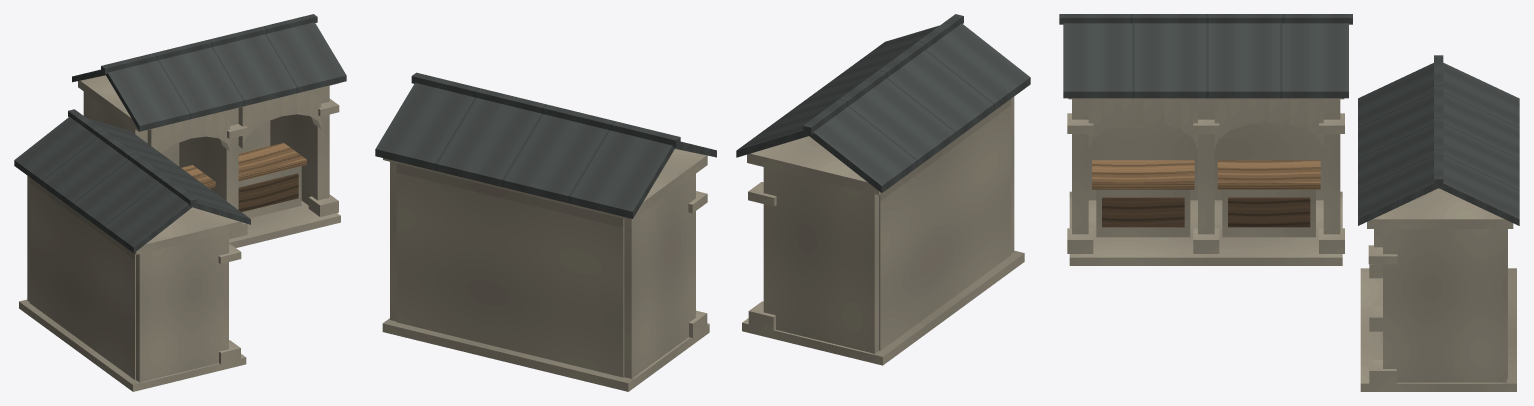
3 views of the same model, side by side, from view 1: azimuth 30°, elevation 25°; view 2: azimuth 150°, elevation 25°; view 3: azimuth 270°, elevation 25° (orthographic). The views are drawn at different scales.
Visible parts, largest first — view 1: yaounde; view 2: yaounde; view 3: yaounde.
Boxes of the visible parts, x1,y1,x2,y2 form: yaounde: [14, 14, 346, 391]; yaounde: [375, 14, 1030, 391]; yaounde: [1059, 14, 1519, 391].
Bounding box in the file's own units: 4.88 × 2.5 × 4.8.
Materials: 1 (1 with a texture image).
